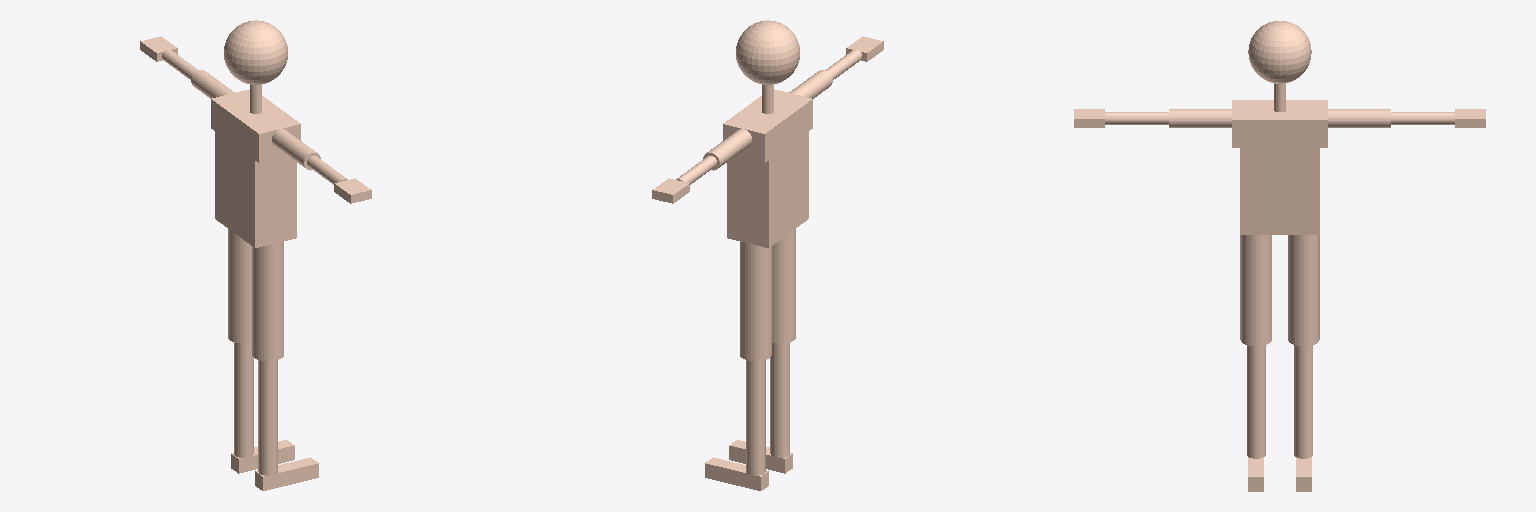
--- Render facts (derived) ---
The picture shows the robot from 3 angles, left to right: view 1: azimuth 30°, elevation 25°; view 2: azimuth 150°, elevation 25°; view 3: azimuth 270°, elevation 25°; orthographic projection.
Robot: HumanModel — 55 links, 54 joints (54 revolute); root link Pelvis; default pose: every joint at zero.
Visible links, largest first — view 1: MiddleTrunk, RightUpperLeg, Head, LeftUpperLeg, Pelvis, RightLowerLeg, LeftLowerLeg, UpperTrunk_Right, RightFoot, UpperTrunk_Middle, UpperTrunk_Left, RightUpperArm (+4 smaller); view 2: MiddleTrunk, LeftUpperLeg, Head, RightUpperLeg, Pelvis, LeftLowerLeg, RightLowerLeg, UpperTrunk_Left, LeftFoot, UpperTrunk_Middle, UpperTrunk_Right, LeftUpperArm (+4 smaller); view 3: MiddleTrunk, RightUpperLeg, LeftUpperLeg, Head, Pelvis, RightLowerLeg, LeftLowerLeg, UpperTrunk_Right, UpperTrunk_Left, UpperTrunk_Middle, RightUpperArm, LeftUpperArm (+6 smaller).
Link boxes in pixels (box(x1,y1,x2,y2)): MiddleTrunk: box(215, 131, 296, 218); RightUpperLeg: box(252, 241, 283, 360); Head: box(224, 20, 287, 84); LeftUpperLeg: box(228, 229, 251, 343); Pelvis: box(215, 190, 296, 247); RightLowerLeg: box(258, 360, 277, 475); LeftLowerLeg: box(234, 342, 253, 457); UpperTrunk_Right: box(243, 112, 300, 162); RightFoot: box(255, 457, 318, 490); UpperTrunk_Middle: box(227, 100, 283, 150); UpperTrunk_Left: box(211, 89, 267, 139); RightUpperArm: box(272, 129, 320, 170); MiddleTrunk: box(727, 131, 808, 218); LeftUpperLeg: box(740, 241, 771, 360); Head: box(736, 20, 799, 84); RightUpperLeg: box(772, 229, 795, 343); Pelvis: box(727, 190, 808, 247); LeftLowerLeg: box(746, 360, 765, 475); RightLowerLeg: box(770, 342, 789, 457); UpperTrunk_Left: box(723, 112, 780, 162); LeftFoot: box(705, 457, 768, 490); UpperTrunk_Middle: box(740, 100, 796, 150); UpperTrunk_Right: box(756, 89, 812, 139); LeftUpperArm: box(703, 129, 751, 170); MiddleTrunk: box(1240, 148, 1319, 205); RightUpperLeg: box(1240, 235, 1271, 345); LeftUpperLeg: box(1288, 235, 1319, 345); Head: box(1248, 21, 1311, 83); Pelvis: box(1240, 206, 1319, 234); RightLowerLeg: box(1247, 345, 1265, 458); LeftLowerLeg: box(1294, 345, 1312, 458); UpperTrunk_Right: box(1232, 100, 1263, 147); UpperTrunk_Left: box(1296, 100, 1327, 147); UpperTrunk_Middle: box(1264, 100, 1295, 147); RightUpperArm: box(1169, 109, 1231, 127); LeftUpperArm: box(1328, 109, 1390, 127).
Size in the robot's own frame: 0.267 by 1.3 by 1.55 metres.
Geometry: primitives only (box / cylinder / sphere), no mesh files.

URDF robot description (HumanModel):
<robot name="HumanModel">

    <material name="color">
        <color rgba="0.9922 00.8667 0.7922 1"/>
    </material>

    <!--LINKS-->

##############################################################################
# PELVI  ORIGIN
##############################################################################
	<!--Link base (1)-->
	<link name="Pelvis">
        <inertial>
            <mass value="4.976"/>
			<!--COM origin wrt pHipOrigin-->
            <origin xyz="0           0    0.05" rpy="0 0 0" />
            <inertia ixx="0.029678" iyy="0.011854" izz="0.033653" ixy="0" ixz="0" iyz="0"/>
        </inertial>

        <visual>
			<!--box origin wrt pHipOrigin-->
            <origin xyz="0           0    0.05" rpy="0 0 0" />
            <geometry>
                <box size="0.15     0.25    0.1"/>
            </geometry>
            <material name="color"/>
        </visual>

        <collision>
			<!--box origin wrt pHipOrigin-->
            <origin xyz="0           0    0.05" rpy="0 0 0" />
            <geometry>
                <box size="0.15     0.25    0.1"/>
            </geometry>
        </collision>
    </link>
##############################################################################
# PELVI - MIDDLETRUNK
##############################################################################
    <!--Chain from (2) to (7)-->
	<link name="MiddleTrunk_f1">
        <inertial>
            <mass value="0"/>
            <origin xyz="0 0 0" rpy="0 0 0" />
            <inertia ixx="0" iyy="0" izz="0" ixy="0" ixz="0" iyz="0"/>
        </inertial>
    </link>
	<link name="MiddleTrunk_f2">
        <inertial>
            <mass value="0"/>
            <origin xyz="0 0 0" rpy="0 0 0" />
            <inertia ixx="0" iyy="0" izz="0" ixy="0" ixz="0" iyz="0"/>
        </inertial>
    </link>
##############################################################################
# MIDDLETRUNK
##############################################################################
	<link name="MiddleTrunk">
        <inertial>
            <mass value="6.3444"/>
			<!--COM origin wrt jL5S1-->
            <origin xyz="0      0    0.1" rpy="0 0 0" />
            <inertia ixx="0.018868" iyy="0.014872" izz="0.024177" ixy="0" ixz="0" iyz="0"/>
        </inertial>

        <visual>
			<!--box origin origin wrt jL5S1-->
            <origin xyz="0           0    0.1" rpy="0 0 0" />
            <geometry>
                <box size="0.15    0.25    0.2"/>
            </geometry>
            <material name="color"/>
        </visual>

        <collision>
			<!--box origin origin wrt jL5S1-->
            <origin xyz="0           0    0.1" rpy="0 0 0" />
            <geometry>
                <box size="0.15    0.25    0.2"/>
            </geometry>
        </collision>
    </link>
##############################################################################
# MIDDLETRUNK - UPPERTRUNK_MIDDLE
##############################################################################
	<link name="UpperTrunk_Middle_f1">
        <inertial>
            <mass value="0"/>
            <origin xyz="0 0 0" rpy="0 0 0" />
            <inertia ixx="0" iyy="0" izz="0" ixy="0" ixz="0" iyz="0"/>
        </inertial>
    </link>
	<link name="UpperTrunk_Middle_f2">
        <inertial>
            <mass value="0"/>
            <origin xyz="0 0 0" rpy="0 0 0" />
            <inertia ixx="0" iyy="0" izz="0" ixy="0" ixz="0" iyz="0"/>
        </inertial>
    </link>
##############################################################################
# UPPERTRUNK_MIDDLE
##############################################################################
	<link name="UpperTrunk_Middle">
        <inertial>
            <mass value="6.3444"/>
			<!--COM origin wrt jL4L3-->
            <origin xyz="0       0    0.05" rpy="0 0 0" />
            <inertia ixx="0.017989" iyy="0.013993" izz="0.024177" ixy="0" ixz="0" iyz="0"/>
        </inertial>

        <visual>
			<!--box origin origin wrt jL4L3-->
            <origin xyz="0       0    0.05" rpy="0 0 0" />
            <geometry>
                <box size="0.15   0.1  0.1"/>
            </geometry>
            <material name="color"/>
        </visual>

        <collision>
			<!--box origin origin wrt jL4L3-->
            <origin xyz="0       0    0.05" rpy="0 0 0" />
            <geometry>
                <box size="0.15  0.1  0.1"/>
            </geometry>
        </collision>
    </link>
##############################################################################
# UPPERTRUNK_MIDDLE - UPPERTRUNK_RIGHT
##############################################################################
	<link name="UpperTrunk_Right_f1">
        <inertial>
            <mass value="0"/>
            <origin xyz="0 0 0" rpy="0 0 0" />
            <inertia ixx="0" iyy="0" izz="0" ixy="0" ixz="0" iyz="0"/>
        </inertial>
    </link>
	<link name="UpperTrunk_Right_f2">
        <inertial>
            <mass value="0"/>
            <origin xyz="0 0 0" rpy="0 0 0" />
            <inertia ixx="0" iyy="0" izz="0" ixy="0" ixz="0" iyz="0"/>
        </inertial>
    </link>
##############################################################################
# UPPERTRUNK_RIGHT
##############################################################################
	<link name="UpperTrunk_Right">
        <inertial>
            <mass value="6.3444"/>
			<!--COM origin wrt jL4L3-->
            <origin xyz="0       -0.05  0 " rpy="0 0 0" />
            <inertia ixx="0.017989" iyy="0.013993" izz="0.024177" ixy="0" ixz="0" iyz="0"/>
        </inertial>

        <visual>
			<!--box origin origin wrt jL4L3-->
            <origin xyz="0    -0.05    0" rpy="0 0 0" />
            <geometry>
                <box size="0.15   0.1  0.1"/>
            </geometry>
            <material name="color"/>
        </visual>

        <collision>
			<!--box origin origin wrt jL4L3-->
            <origin xyz="0    -0.05    0" rpy="0 0 0" />
            <geometry>
                <box size="0.15   0.1  0.1"/>
            </geometry>
        </collision>
    </link>
##############################################################################
# UPPERTRUNK_MIDDLE - UPPERTRUNK_LEFT
##############################################################################
	<link name="UpperTrunk_Left_f1">
        <inertial>
            <mass value="0"/>
            <origin xyz="0 0 0" rpy="0 0 0" />
            <inertia ixx="0" iyy="0" izz="0" ixy="0" ixz="0" iyz="0"/>
        </inertial>
    </link>
	<link name="UpperTrunk_Left_f2">
        <inertial>
            <mass value="0"/>
            <origin xyz="0 0 0" rpy="0 0 0" />
            <inertia ixx="0" iyy="0" izz="0" ixy="0" ixz="0" iyz="0"/>
        </inertial>
    </link>    
##############################################################################
# UPPERTRUNK_LEFT
##############################################################################
	<link name="UpperTrunk_Left">
        <inertial>
            <mass value="6.3444"/>
			<!--COM origin wrt jL4L3-->
            <origin xyz="0    0.05  0" rpy="0 0 0" />
            <inertia ixx="0.017989" iyy="0.013993" izz="0.024177" ixy="0" ixz="0" iyz="0"/>
        </inertial>

        <visual>
			<!--box origin origin wrt jL4L3-->
            <origin xyz="0    0.05    0" rpy="0 0 0" />
            <geometry>
                <box size="0.15   0.1  0.1"/>
            </geometry>
            <material name="color"/>
        </visual>

        <collision>
			<!--box origin origin wrt jL4L3-->
            <origin xyz="0    0.05    0" rpy="0 0 0" />
            <geometry>
                <box size="0.15   0.1  0.1"/>
            </geometry>
        </collision>
    </link>
##############################################################################
# UPPERTRUNK - NECK
##############################################################################	
	<link name="Neck_f1">
        <inertial>
            <mass value="0"/>
            <origin xyz="0 0 0" rpy="0 0 0" />
            <inertia ixx="0" iyy="0" izz="0" ixy="0" ixz="0" iyz="0"/>
        </inertial>
    </link>
	<link name="Neck_f2">
        <inertial>
            <mass value="0"/>
            <origin xyz="0 0 0" rpy="0 0 0" />
            <inertia ixx="0" iyy="0" izz="0" ixy="0" ixz="0" iyz="0"/>
        </inertial>
    </link>
##############################################################################
# NECK
##############################################################################	
	<link name="Neck">
        <inertial>
            <mass value="0.7464"/>
			<!--COM origin wrt jT1C7-->
            <origin xyz="0           0    0.05" rpy="0 0 0" />
            <inertia ixx="0.0006461" iyy="0.0006461" izz="0.00030124" ixy="0" ixz="0" iyz="0"/>
        </inertial>

        <visual>
			<!--box origin wrt jT1C7-->
            <origin xyz="0           0    0.05" rpy="0 0 0" />
            <geometry>
		<cylinder length="0.1" radius="0.02"/>
            </geometry>
            <material name="color"/>
        </visual>

        <collision>
			<!--box origin wrt jT1C7-->
            <origin xyz="0           0    0.05" rpy="0 0 0" />
            <geometry>
                <cylinder length="0.1" radius="0.02"/>
            </geometry>
        </collision>
    </link>
##############################################################################
# NECK - HEAD
##############################################################################	
	<link name="Head_f1">
        <inertial>
            <mass value="0"/>
            <origin xyz="0 0 0" rpy="0 0 0" />
            <inertia ixx="0" iyy="0" izz="0" ixy="0" ixz="0" iyz="0"/>
        </inertial>
    </link>
	<link name="Head_f2">
        <inertial>
            <mass value="0"/>
            <origin xyz="0 0 0" rpy="0 0 0" />
            <inertia ixx="0" iyy="0" izz="0" ixy="0" ixz="0" iyz="0"/>
        </inertial>
    </link>
##############################################################################
# HEAD
##############################################################################	
	<link name="Head">
        <inertial>
            <mass value="2.2392"/>
			<!--COM origin wrt jC1Head-->
            <origin xyz="0           0    0.1" rpy="0 0 0" />
            <inertia ixx="0.0070955" iyy="0.0070955" izz="0.0070955" ixy="0" ixz="0" iyz="0"/>
        </inertial>

        <visual>
			<!--boc origin wrt jC1Head-->
            <origin xyz="0           0    0.1" rpy="0 0 0" />
            <geometry>
                <sphere radius="0.1"/>
            </geometry>
            <material name="color"/>
        </visual>

        <collision>
			<!--box origin wrt jC1Head-->
            <origin xyz="0           0    0.1" rpy="0 0 0" />
            <geometry>
                <sphere radius="0.1"/>
            </geometry>
        </collision>
    </link>
##############################################################################
# RIGHT SHOULDER
##############################################################################

	<!--Chain from (8) to (11)-->
	<link name="RightShoulder_f1">
        <inertial>
            <mass value="0"/>
            <origin xyz="0 0 0" rpy="0 0 0" />
            <inertia ixx="0" iyy="0" izz="0" ixy="0" ixz="0" iyz="0"/>
        </inertial>
    </link>
	<link name="RightShoulder_f2">
        <inertial>
            <mass value="0"/>
            <origin xyz="0 0 0" rpy="0 0 0" />
            <inertia ixx="0" iyy="0" izz="0" ixy="0" ixz="0" iyz="0"/>
        </inertial>
    </link>
##############################################################################
# RIGHT UPPERARM
##############################################################################
    <link name="RightUpperArm">
        <inertial>
            <mass value="1.866"/>
			<!--COM origin wrt jRightShoulder-->
            <origin xyz="0    -0.1           0" rpy="0 0 0" />
            <inertia ixx="0.011736" iyy="0.00080917" izz="0.011736" ixy="0" ixz="0" iyz="0"/>
        </inertial>

        <visual>
			<!--box origin wrt jRightShoulder. RPY rotated of pi/2.-->
            <origin xyz="0    -0.1           0" rpy="1.5708 0 0" />
            <geometry>
                <cylinder length="0.2" radius="0.03"/>
            </geometry>
            <material name="color"/>
        </visual>

        <collision>
			<!--box origin wrt jRightShoulder. RPY rotated of pi/2.-->
            <origin xyz="0    -0.1           0" rpy="1.5708 0 0" />
            <geometry>
                <cylinder length="0.2" radius="0.03"/>
            </geometry>
        </collision>
    </link>
##############################################################################
# RIGHT ELBOW
##############################################################################
	<link name="RightForeArm_f1">
        <inertial>
            <mass value="0"/>
            <origin xyz="0 0 0" rpy="0 0 0" />
            <inertia ixx="0" iyy="0" izz="0" ixy="0" ixz="0" iyz="0"/>
        </inertial>
    </link>
	<link name="RightForeArm_f2">
        <inertial>
            <mass value="0"/>
            <origin xyz="0 0 0" rpy="0 0 0" />
            <inertia ixx="0" iyy="0" izz="0" ixy="0" ixz="0" iyz="0"/>
        </inertial>
    </link>
##############################################################################
# RIGHT FOREARM
##############################################################################
	<link name="RightForeArm">
        <inertial>
            <mass value="1.244"/>
			<!--COM origin wrt jRightElbow-->
            <origin xyz="0    -0.1           0" rpy="0 0 0" />
            <inertia ixx="0.0052508" iyy="0.00023975" izz="0.0052508" ixy="0" ixz="0" iyz="0"/>
        </inertial>

        <visual>
			<!--box origin wrt jRightElbow. RPY rotated of pi/2.-->
            <origin xyz="0    -0.1           0" rpy="1.5708 0 0" />
            <geometry>
                <cylinder length="0.2" radius="0.02"/>
            </geometry>
            <material name="color"/>
        </visual>

        <collision>
			<!--box origin wrt jRightElbow. RPY rotated of pi/2.-->
            <origin xyz="0    -0.1           0" rpy="1.5708 0 0" />
            <geometry>
                <cylinder length="0.2" radius="0.02"/>
            </geometry>
        </collision>
    </link>
##############################################################################
# RIGHT WRIST
##############################################################################
	<link name="RightHand_f1">
        <inertial>
            <mass value="0"/>
            <origin xyz="0 0 0" rpy="0 0 0" />
            <inertia ixx="0" iyy="0" izz="0" ixy="0" ixz="0" iyz="0"/>
        </inertial>
    </link>
	<link name="RightHand_f2">
        <inertial>
            <mass value="0"/>
            <origin xyz="0 0 0" rpy="0 0 0" />
            <inertia ixx="0" iyy="0" izz="0" ixy="0" ixz="0" iyz="0"/>
        </inertial>
    </link>
##############################################################################
# RIGHT HAND
##############################################################################
	<link name="RightHand">
        <inertial>
            <mass value="0.3732"/>
			<!--COM origin wrt jRightWrist-->
            <origin xyz="0   -0.05           0" rpy="0 0 0" />
            <inertia ixx="0.00091713" iyy="0.00043425" izz="0.0012555" ixy="0" ixz="0" iyz="0"/>
        </inertial>

        <visual>
			<!--box origin wrt jRightWrist-->
            <origin xyz="0   -0.05           0" rpy="0 0 0" />
            <geometry>
                <box size="0.075     0.1    0.03"/>
            </geometry>
            <material name="color"/>
        </visual>

        <collision>
			<!--box origin wrt jRightWrist-->
            <origin xyz="0   -0.05           0" rpy="0 0 0" />
            <geometry>
                <box size="0.075     0.1   0.03"/>
            </geometry>
        </collision>
    </link>
##############################################################################
# LEFT SHOULDER
##############################################################################
	<!--Chain from (12) to (15)-->
	<link name="LeftShoulder_f1">
        <inertial>
            <mass value="0"/>
            <origin xyz="0 0 0" rpy="0 0 0" />
            <inertia ixx="0" iyy="0" izz="0" ixy="0" ixz="0" iyz="0"/>
        </inertial>
    </link>
	<link name="LeftShoulder_f2">
        <inertial>
            <mass value="0"/>
            <origin xyz="0 0 0" rpy="0 0 0" />
            <inertia ixx="0" iyy="0" izz="0" ixy="0" ixz="0" iyz="0"/>
        </inertial>
    </link>
##############################################################################
# LEFT UPPERARM
##############################################################################

	<link name="LeftUpperArm">
        <inertial>
            <mass value="1.866"/>
			<!--COM origin wrt jLeftShoulder-->
            <origin xyz="0     0.1          0" rpy="0 0 0" />
            <inertia ixx="0.011736" iyy="0.00080917" izz="0.011736" ixy="0" ixz="0" iyz="0"/>
        </inertial>

        <visual>
			<!--box origin wrt jLeftShoulder. RPY rotated of pi/2.-->
            <origin xyz="0     0.1           0" rpy="1.5708 0 0" />
            <geometry>
                <cylinder length="0.2" radius="0.03"/>
            </geometry>
            <material name="color"/>
        </visual>

        <collision>
			<!--box origin wrt jLeftShoulder. RPY rotated of pi/2.-->
            <origin xyz="0     0.1           0" rpy="1.5708 0 0" />
            <geometry>
                <cylinder length="0.2" radius="0.03"/>
            </geometry>
        </collision>
    </link>
##############################################################################
# LEFT ELBOW
##############################################################################
	<link name="LeftForeArm_f1">
        <inertial>
            <mass value="0"/>
            <origin xyz="0 0 0" rpy="0 0 0" />
            <inertia ixx="0" iyy="0" izz="0" ixy="0" ixz="0" iyz="0"/>
        </inertial>
    </link>
	<link name="LeftForeArm_f2">
        <inertial>
            <mass value="0"/>
            <origin xyz="0 0 0" rpy="0 0 0" />
            <inertia ixx="0" iyy="0" izz="0" ixy="0" ixz="0" iyz="0"/>
        </inertial>
    </link>
##############################################################################
# LEFT FOREARM
##############################################################################
	<link name="LeftForeArm">
        <inertial>
            <mass value="1.244"/>
			<!--COM origin wrt jLeftElbow-->
            <origin xyz="0     0.1           0" rpy="0 0 0" />
            <inertia ixx="0.0052508" iyy="0.00023975" izz="0.0052508" ixy="0" ixz="0" iyz="0"/>
        </inertial>

        <visual>
			<!--box origin wrt jLeftElbow. RPY rotated of pi/2.-->
            <origin xyz="0     0.1           0" rpy="1.5708 0 0" />
            <geometry>
                <cylinder length="0.2" radius="0.02"/>
            </geometry>
            <material name="color"/>
        </visual>

        <collision>
			<!--box origin wrt jLeftElbow. RPY rotated of pi/2.-->
            <origin xyz="0     0.1           0" rpy="1.5708 0 0" />
            <geometry>
                <cylinder length="0.2" radius="0.02"/>
            </geometry>
        </collision>
    </link>
##############################################################################
# LEFT WRIST
##############################################################################
	<link name="LeftHand_f1">
        <inertial>
            <mass value="0"/>
            <origin xyz="0 0 0" rpy="0 0 0" />
            <inertia ixx="0" iyy="0" izz="0" ixy="0" ixz="0" iyz="0"/>
        </inertial>
    </link>
	<link name="LeftHand_f2">
        <inertial>
            <mass value="0"/>
            <origin xyz="0 0 0" rpy="0 0 0" />
            <inertia ixx="0" iyy="0" izz="0" ixy="0" ixz="0" iyz="0"/>
        </inertial>
    </link>
##############################################################################
# LEFT HAND
##############################################################################
	<link name="LeftHand">
        <inertial>
            <mass value="0.3732"/>
			<!--COM origin wrt jLeftWrist-->
            <origin xyz="0    0.05           0" rpy="0 0 0" />
            <inertia ixx="0.00091713" iyy="0.00043425" izz="0.0012555" ixy="0" ixz="0" iyz="0"/>
        </inertial>

        <visual>
			<!--COM origin wrt jLeftWrist-->
            <origin xyz="0    0.05           0" rpy="0 0 0" />
            <geometry>
                <box size="0.075     0.1    0.03"/>
            </geometry>
            <material name="color"/>
        </visual>

        <collision>
			<!--COM origin wrt jLeftWrist-->
            <origin xyz="0    0.05           0" rpy="0 0 0" />
            <geometry>
                <box size="0.075     0.1    0.03"/>
            </geometry>
        </collision>

    </link>
##############################################################################
# RIGHT HIP
##############################################################################
	<!--Chain from (16) to (19)-->
	<link name="RightUpperLeg_f1">
        <inertial>
            <mass value="0"/>
            <origin xyz="0 0 0" rpy="0 0 0" />
            <inertia ixx="0" iyy="0" izz="0" ixy="0" ixz="0" iyz="0"/>
        </inertial>
    </link>
	<link name="RightUpperLeg_f2">
        <inertial>
            <mass value="0"/>
            <origin xyz="0 0 0" rpy="0 0 0" />
            <inertia ixx="0" iyy="0" izz="0" ixy="0" ixz="0" iyz="0"/>
        </inertial>
    </link>
##############################################################################
# RIGHT UPPERLEG
##############################################################################
    <link name="RightUpperLeg">
        <inertial>
            <mass value="7.775"/>
			<!--COM origin wrt jRightHip-->
            <origin xyz="0           0    -0.2" rpy="0 0 0" />
            <inertia ixx="0.13681" iyy="0.13681" izz="0.01241" ixy="0" ixz="0" iyz="0"/>
        </inertial>

        <visual>
			<!--box origin wrt jRightHip-->
            <origin xyz="0           0    -0.2" rpy="0 0 0" />
            <geometry>
                <cylinder length="0.4" radius="0.05"/>
            </geometry>
            <material name="color"/>
        </visual>

        <collision>
			<!--box origin wrt jRightHip-->
            <origin xyz="0           0    -0.2" rpy="0 0 0" />
            <geometry>
                <cylinder length="0.4" radius="0.05"/>
            </geometry>
        </collision>
     </link>
##############################################################################
# RIGHT KNEE
##############################################################################

	<link name="RightLowerLeg_f1">
        <inertial>
            <mass value="0"/>
            <origin xyz="0 0 0" rpy="0 0 0" />
            <inertia ixx="0" iyy="0" izz="0" ixy="0" ixz="0" iyz="0"/>
        </inertial>
    </link>
	<link name="RightLowerLeg_f2">
        <inertial>
            <mass value="0"/>
            <origin xyz="0 0 0" rpy="0 0 0" />
            <inertia ixx="0" iyy="0" izz="0" ixy="0" ixz="0" iyz="0"/>
        </inertial>
    </link>
##############################################################################
# RIGHT LOWERLEG
##############################################################################
    <link name="RightLowerLeg">
        <inertial>
            <mass value="2.2703"/>
			<!--COM origin wrt jRightKnee-->
            <origin xyz="0           0    -0.2" rpy="0 0 0" />
            <inertia ixx="0.031992" iyy="0.031992" izz="0.0015867" ixy="0" ixz="0" iyz="0"/>
        </inertial>

        <visual>
			<!--box origin wrt jRightKnee-->
            <origin xyz="0           0    -0.2" rpy="0 0 0" />
            <geometry>
                <cylinder length="0.4" radius="0.03"/>
            </geometry>
            <material name="color"/>
        </visual>

        <collision>
			<!--box origin wrt jRightKnee-->
            <origin xyz="0           0    -0.2" rpy="0 0 0" />
            <geometry>
                <cylinder length="0.4" radius="0.03"/>
            </geometry>
        </collision>
    </link>
##############################################################################
# RIGHT ANKLE
############################################################################## 
	<link name="RightFoot_f1">
        <inertial>
            <mass value="0"/>
            <origin xyz="0 0 0" rpy="0 0 0" />
            <inertia ixx="0" iyy="0" izz="0" ixy="0" ixz="0" iyz="0"/>
        </inertial>
    </link>
	<link name="RightFoot_f2">
        <inertial>
            <mass value="0"/>
            <origin xyz="0 0 0" rpy="0 0 0" />
            <inertia ixx="0" iyy="0" izz="0" ixy="0" ixz="0" iyz="0"/>
        </inertial>
    </link>
##############################################################################
# RIGHT FOOT
##############################################################################
    <link name="RightFoot">
        <inertial>
            <mass value="0.8086"/>
			<!--COM origin wrt jRightAnkle-->
            <origin xyz="0.067         0   -0.025" rpy="0 0 0" />
            <inertia ixx="0.00079209" iyy="0.0025944" izz="0.0025558" ixy="0" ixz="0" iyz="0"/>
        </inertial>

        <visual>
			<!--box origin wrt jRightAnkle-->
	    	<origin xyz="0.067            0   -0.025" rpy="0 0 0" />
            <geometry>
                <box size="0.2    0.05    0.05"/>
            </geometry>
            <material name="color"/>
        </visual>

        <collision>
			<!--box origin wrt jRightAnkle-->
		    <origin xyz="0.067           0   -0.025" rpy="0 0 0" />
	            <geometry>
	                <box size="0.2    0.05    0.05"/>
	            </geometry>
        </collision>

    </link>



##############################################################################
# LEFT HIP
##############################################################################	
	<!--Chain from (20) to (23)-->
	<link name="LeftUpperLeg_f1">
        <inertial>
            <mass value="0"/>
            <origin xyz="0 0 0" rpy="0 0 0" />
            <inertia ixx="0" iyy="0" izz="0" ixy="0" ixz="0" iyz="0"/>
        </inertial>
    </link>
	<link name="LeftUpperLeg_f2">
        <inertial>
            <mass value="0"/>
            <origin xyz="0 0 0" rpy="0 0 0" />
            <inertia ixx="0" iyy="0" izz="0" ixy="0" ixz="0" iyz="0"/>
        </inertial>
    </link>
##############################################################################
# LEFT UPPERLEG
##############################################################################
    <link name="LeftUpperLeg">
        <inertial>
            <mass value="7.775"/>
			<!--COM origin wrt jLeftHip-->
            <origin xyz="0           0    -0.2" rpy="0 0 0" />
            <inertia ixx="0.13681" iyy="0.13681" izz="0.01241" ixy="0" ixz="0" iyz="0"/>
        </inertial>

        <visual>
			<!--box origin wrt jLeftHip-->
            <origin xyz="0           0    -0.2" rpy="0 0 0" />
            <geometry>
                <cylinder length="0.4" radius="0.05"/>
            </geometry>
            <material name="color"/>
        </visual>

        <collision>
			<!--box origin wrt jLeftHip-->
            <origin xyz="0           0    -0.2" rpy="0 0 0" />
            <geometry>
                <cylinder length="0.4" radius="0.05"/>
            </geometry>
        </collision>
##############################################################################
# LEFT KNEE
##############################################################################
    </link>
	<link name="LeftLowerLeg_f1">
        <inertial>
            <mass value="0"/>
            <origin xyz="0 0 0" rpy="0 0 0" />
            <inertia ixx="0" iyy="0" izz="0" ixy="0" ixz="0" iyz="0"/>
        </inertial>
    </link>
	<link name="LeftLowerLeg_f2">
        <inertial>
            <mass value="0"/>
            <origin xyz="0 0 0" rpy="0 0 0" />
            <inertia ixx="0" iyy="0" izz="0" ixy="0" ixz="0" iyz="0"/>
        </inertial>
    </link>
##############################################################################
# LEFT LOWERLEG
##############################################################################
	<link name="LeftLowerLeg">
        <inertial>
            <mass value="2.2703"/>
			<!--COM origin wrt jLeftKnee-->
            <origin xyz="0           0    -0.2" rpy="0 0 0" />
            <inertia ixx="0.031992" iyy="0.031992" izz="0.0015867" ixy="0" ixz="0" iyz="0"/>
        </inertial>

        <visual>
			<!--box origin wrt jLeftKnee-->
            <origin xyz="0           0    -0.2" rpy="0 0 0" />
            <geometry>
		        <cylinder length="0.4" radius="0.03"/>
            </geometry>
            <material name="color"/>
        </visual>

        <collision>
			<!--box origin wrt jLeftKnee-->
            <origin xyz="0           0    -0.2" rpy="0 0 0" />
            <geometry>
		        <cylinder length="0.4" radius="0.03"/>
            </geometry>
        </collision>

    </link>
##############################################################################
# LEFT ANKLE
##############################################################################
	<link name="LeftFoot_f1">
        <inertial>
            <mass value="0"/>
            <origin xyz="0 0 0" rpy="0 0 0" />
            <inertia ixx="0" iyy="0" izz="0" ixy="0" ixz="0" iyz="0"/>
        </inertial>
    </link>
	<link name="LeftFoot_f2">
        <inertial>
            <mass value="0"/>
            <origin xyz="0 0 0" rpy="0 0 0" />
            <inertia ixx="0" iyy="0" izz="0" ixy="0" ixz="0" iyz="0"/>
        </inertial>
    </link>
##############################################################################
# LEFT FOOT
##############################################################################
    <link name="LeftFoot">
        <inertial>
            <mass value="0.8086"/>
			<!--COM origin wrt jLeftAnkle-->
            <origin xyz="0.067         0   -0.025" rpy="0 0 0" />
            <inertia ixx="0.00079209" iyy="0.0025944" izz="0.0025558" ixy="0" ixz="0" iyz="0"/>
        </inertial>

        <visual>
			<!--box origin wrt jLeftAnkle-->
	   	 	<origin xyz="0.067         0   -0.025" rpy="0 0 0" />
            <geometry>
                <box size="0.2    0.05    0.05"/>
            </geometry>
            <material name="color"/>
        </visual>

        <collision>
			<!--box origin wrt jLeftAnkle-->
		    <origin xyz="0.067         0   -0.025" rpy="0 0 0" />
	            <geometry>
	                <box size="0.2    0.05    0.05"/>
	            </geometry>
        </collision>

    </link>



<!--JOINTS-->



##############################################################################
# PELVI - MIDDLETRUNK
##############################################################################
	
	<!--Chain from (2) to (7)-->
	<joint name="jL5S1_rotx" type="revolute">
        <origin xyz="0          0    0.1" rpy="0 0 0"/>
        <parent link="Pelvis"/>
        <child link="MiddleTrunk_f1"/>
        <dynamics damping="0.1" friction="0.0"/>
        <limit effort="30" velocity="1.0" lower="-10.0" upper="10.0" />
        <axis xyz="1 0 0" />
    </joint>
	<joint name="jL5S1_roty" type="revolute">
        <origin xyz="0 0 0" rpy="0 0 0"/>
        <parent link="MiddleTrunk_f1"/>
        <child link="MiddleTrunk_f2"/>
        <dynamics damping="0.1" friction="0.0"/>
        <limit effort="30" velocity="1.0" lower="-10.0" upper="10.0" />
        <axis xyz="0 1 0" />
    </joint>
    <joint name="jL5S1_rotz" type="revolute">
        <origin xyz="0 0 0" rpy="0 0 0"/>
        <parent link="MiddleTrunk_f2"/>
        <child link="MiddleTrunk"/>
        <dynamics damping="0.1" friction="0.0"/>
        <limit effort="30" velocity="1.0" lower="-10.0" upper="10.0" />
        <axis xyz="0 0 1" />
    </joint>
##############################################################################
# MIDDLETRUNK - UPPERTRUNK_MIDDLE
##############################################################################

	<joint name="jL4L3_rotx" type="revolute">
        <origin xyz="0      0    0.2" rpy="0 0 0"/>
        <parent link="MiddleTrunk"/>
        <child link="UpperTrunk_Middle_f1"/>
        <dynamics damping="0.1" friction="0.0"/>
        <limit effort="30" velocity="1.0" lower="-10.0" upper="10.0" />
        <axis xyz="1 0 0" />
    </joint>
	<joint name="jL4L3_roty" type="revolute">
        <origin xyz="0 0 0" rpy="0 0 0"/>
        <parent link="UpperTrunk_Middle_f1"/>
        <child link="UpperTrunk_Middle_f2"/>
        <dynamics damping="0.1" friction="0.0"/>
        <limit effort="30" velocity="1.0" lower="-10.0" upper="10.0" />
        <axis xyz="0 1 0" />
    </joint>
    <joint name="jL4L3_rotz" type="revolute">
        <origin xyz="0 0 0" rpy="0 0 0"/>
        <parent link="UpperTrunk_Middle_f2"/>
        <child link="UpperTrunk_Middle"/>
        <dynamics damping="0.1" friction="0.0"/>
        <limit effort="30" velocity="1.0" lower="-10.0" upper="10.0" />
        <axis xyz="0 0 1" />
    </joint>
##############################################################################
# UPPERTRUNK_MIDDLE - UPPERTRUNK_RIGHT
##############################################################################

	<!--Chain from (8) to (11)-->
	<joint name="jT1C7_Right_rotx" type="revolute">
        <origin xyz="0   -0.05    0.05" rpy="0 0 0"/>
        <parent link="UpperTrunk_Middle"/>
        <child link="UpperTrunk_Right_f1"/>
        <dynamics damping="0.1" friction="0.0"/>
        <limit effort="30" velocity="1.0" lower="-10.0" upper="10.0" />
        <axis xyz="1 0 0" />
    </joint>
	<joint name="jT1C7_Right_roty" type="revolute">
        <origin xyz="0 0 0" rpy="0 0 0"/>
        <parent link="UpperTrunk_Right_f1"/>
        <child link="UpperTrunk_Right_f2"/>
        <dynamics damping="0.1" friction="0.0"/>
        <limit effort="30" velocity="1.0" lower="-10.0" upper="10.0" />
        <axis xyz="0 1 0" />
    </joint>
    <joint name="jT1C7_Right_rotz" type="revolute">
        <origin xyz="0 0 0" rpy="0 0 0"/>
        <parent link="UpperTrunk_Right_f2"/>
        <child link="UpperTrunk_Right"/>
        <dynamics damping="0.1" friction="0.0"/>
        <limit effort="30" velocity="1.0" lower="-10.0" upper="10.0" />
        <axis xyz="0 0 1" />
    </joint>
##############################################################################
# UPPERTRUNK_MIDDLE - UPPERTRUNK_LEFT
##############################################################################

	<!--Chain from (8) to (11)-->
	<joint name="jT1C7_Left_rotx" type="revolute">
        <origin xyz="0   0.05    0.05" rpy="0 0 0"/>
        <parent link="UpperTrunk_Middle"/>
        <child link="UpperTrunk_Left_f1"/>
        <dynamics damping="0.1" friction="0.0"/>
        <limit effort="30" velocity="1.0" lower="-10.0" upper="10.0" />
        <axis xyz="1 0 0" />
    </joint>
	<joint name="jT1C7_Left_roty" type="revolute">
        <origin xyz="0 0 0" rpy="0 0 0"/>
        <parent link="UpperTrunk_Left_f1"/>
        <child link="UpperTrunk_Left_f2"/>
        <dynamics damping="0.1" friction="0.0"/>
        <limit effort="30" velocity="1.0" lower="-10.0" upper="10.0" />
        <axis xyz="0 1 0" />
    </joint>
    <joint name="jT1C7_Left_rotz" type="revolute">
        <origin xyz="0 0 0" rpy="0 0 0"/>
        <parent link="UpperTrunk_Left_f2"/>
        <child link="UpperTrunk_Left"/>
        <dynamics damping="0.1" friction="0.0"/>
        <limit effort="30" velocity="1.0" lower="-10.0" upper="10.0" />
        <axis xyz="0 0 1" />
    </joint>
##############################################################################
# UPPERTRUNK_MIDDLE - NECK
##############################################################################

	<joint name="jT1C7_rotx" type="revolute">
        <origin xyz="0        0     0.1" rpy="0 0 0"/>
        <parent link="UpperTrunk_Middle"/>
        <child link="Neck_f1"/>
        <dynamics damping="0.1" friction="0.0"/>
        <limit effort="30" velocity="1.0" lower="-10.0" upper="10.0" />
        <axis xyz="1 0 0" />
    </joint>
	<joint name="jT1C7_roty" type="revolute">
        <origin xyz="0 0 0" rpy="0 0 0"/>
        <parent link="Neck_f1"/>
        <child link="Neck_f2"/>
        <dynamics damping="0.1" friction="0.0"/>
        <limit effort="30" velocity="1.0" lower="-10.0" upper="10.0" />
        <axis xyz="0 1 0" />
    </joint>
    <joint name="jT1C7_rotz" type="revolute">
        <origin xyz="0 0 0" rpy="0 0 0"/>
        <parent link="Neck_f2"/>
        <child link="Neck"/>
        <dynamics damping="0.1" friction="0.0"/>
        <limit effort="30" velocity="1.0" lower="-10.0" upper="10.0" />
        <axis xyz="0 0 1" />
    </joint>
##############################################################################
# NECK - HEAD
##############################################################################  
	<joint name="jC1Head_rotx" type="revolute">
        <origin xyz="0           0    0.1" rpy="0 0 0"/>
        <parent link="Neck"/>
        <child link="Head_f1"/>
        <dynamics damping="0.1" friction="0.0"/>
        <limit effort="30" velocity="1.0" lower="-10.0" upper="10.0" />
        <axis xyz="1 0 0" />
    </joint>
	<joint name="jC1Head_roty" type="revolute">
        <origin xyz="0 0 0" rpy="0 0 0"/>
        <parent link="Head_f1"/>
        <child link="Head_f2"/>
        <dynamics damping="0.1" friction="0.0"/>
        <limit effort="30" velocity="1.0" lower="-10.0" upper="10.0" />
        <axis xyz="0 1 0" />
    </joint>
    <joint name="jC1Head_rotz" type="revolute">
        <origin xyz="0 0 0" rpy="0 0 0"/>
        <parent link="Head_f2"/>
        <child link="Head"/>
        <dynamics damping="0.1" friction="0.0"/>
        <limit effort="30" velocity="1.0" lower="-10.0" upper="10.0" />
        <axis xyz="0 0 1" />
    </joint>


##############################################################################
# RIGHT SHOULDER
##############################################################################

	<!--Chain from (8) to (11)-->
	<joint name="jRightC7Shoulder_rotx" type="revolute">
        <origin xyz="0   -0.1    0.02" rpy="0 0 0"/>
        <parent link="UpperTrunk_Right"/>
        <child link="RightShoulder_f1"/>
        <dynamics damping="0.1" friction="0.0"/>
        <limit effort="30" velocity="1.0" lower="-10.0" upper="10.0" />
        <axis xyz="1 0 0" />
    </joint>
	<joint name="jRightC7Shoulder_roty" type="revolute">
        <origin xyz="0 0 0" rpy="0 0 0"/>
        <parent link="RightShoulder_f1"/>
        <child link="RightShoulder_f2"/>
        <dynamics damping="0.1" friction="0.0"/>
        <limit effort="30" velocity="1.0" lower="-10.0" upper="10.0" />
        <axis xyz="0 1 0" />
    </joint>
    <joint name="jRightC7Shoulder_rotz" type="revolute">
        <origin xyz="0 0 0" rpy="0 0 0"/>
        <parent link="RightShoulder_f2"/>
        <child link="RightUpperArm"/>
        <dynamics damping="0.1" friction="0.0"/>
        <limit effort="30" velocity="1.0" lower="-10.0" upper="10.0" />
        <axis xyz="0 0 1" />
    </joint>
##############################################################################
# RIGHT ELBOW
##############################################################################
	<joint name="jRightElbow_rotx" type="revolute">
        <origin xyz="0    -0.2   0" rpy="0 0 0"/>
        <parent link="RightUpperArm"/>
        <child link="RightForeArm_f1"/>
        <dynamics damping="0.1" friction="0.0"/>
        <limit effort="30" velocity="1.0" lower="-10.0" upper="10.0" />
        <axis xyz="1 0 0" />
    </joint>
	<joint name="jRightElbow_roty" type="revolute">
        <origin xyz="0 0 0" rpy="0 0 0"/>
        <parent link="RightForeArm_f1"/>
        <child link="RightForeArm_f2"/>
        <dynamics damping="0.1" friction="0.0"/>
        <limit effort="30" velocity="1.0" lower="-10.0" upper="10.0" />
        <axis xyz="0 1 0" />
    </joint>
    <joint name="jRightElbow_rotz" type="revolute">
        <origin xyz="0 0 0" rpy="0 0 0"/>
        <parent link="RightForeArm_f2"/>
        <child link="RightForeArm"/>
        <dynamics damping="0.1" friction="0.0"/>
        <limit effort="30" velocity="1.0" lower="-10.0" upper="10.0" />
        <axis xyz="0 0 1" />
    </joint>
##############################################################################
# RIGHT WRIST
##############################################################################
	<joint name="jRightWrist_rotx" type="revolute">
        <origin xyz="0    -0.2           0" rpy="0 0 0"/>
        <parent link="RightForeArm"/>
        <child link="RightHand_f1"/>
        <dynamics damping="0.1" friction="0.0"/>
        <limit effort="30" velocity="1.0" lower="-10.0" upper="10.0" />
        <axis xyz="1 0 0" />
    </joint>
	<joint name="jRightWrist_roty" type="revolute">
        <origin xyz="0 0 0" rpy="0 0 0"/>
        <parent link="RightHand_f1"/>
        <child link="RightHand_f2"/>
        <dynamics damping="0.1" friction="0.0"/>
        <limit effort="30" velocity="1.0" lower="-10.0" upper="10.0" />
        <axis xyz="0 1 0" />
    </joint>
    <joint name="jRightWrist_rotz" type="revolute">
        <origin xyz="0 0 0" rpy="0 0 0"/>
        <parent link="RightHand_f2"/>
        <child link="RightHand"/>
        <dynamics damping="0.1" friction="0.0"/>
        <limit effort="30" velocity="1.0" lower="-10.0" upper="10.0" />
        <axis xyz="0 0 1" />
    </joint>


##############################################################################
# LEFT SHOULDER
##############################################################################
	<!--Chain from (12) to (15)-->
	<joint name="jLeftC7Shoulder_rotx" type="revolute">
        <origin xyz="0    0.1    0.02" rpy="0 0 0"/>
        <parent link="UpperTrunk_Left"/>
        <child link="LeftShoulder_f1"/>
        <dynamics damping="0.1" friction="0.0"/>
        <limit effort="30" velocity="1.0" lower="-10.0" upper="10.0" />
        <axis xyz="1 0 0" />
    </joint>
	<joint name="jLeftC7Shoulder_roty" type="revolute">
        <origin xyz="0 0 0" rpy="0 0 0"/>
        <parent link="LeftShoulder_f1"/>
        <child link="LeftShoulder_f2"/>
        <dynamics damping="0.1" friction="0.0"/>
        <limit effort="30" velocity="1.0" lower="-10.0" upper="10.0" />
        <axis xyz="0 1 0" />
    </joint>
    <joint name="jLeftC7Shoulder_rotz" type="revolute">
        <origin xyz="0 0 0" rpy="0 0 0"/>
        <parent link="LeftShoulder_f2"/>
        <child link="LeftUpperArm"/>
        <dynamics damping="0.1" friction="0.0"/>
        <limit effort="30" velocity="1.0" lower="-10.0" upper="10.0" />
        <axis xyz="0 0 1" />
    </joint>
##############################################################################
# LEFT ELBOW
##############################################################################
    <joint name="jLeftElbow_rotx" type="revolute">
        <origin xyz="0     0.2           0" rpy="0 0 0"/>
        <parent link="LeftUpperArm"/>
        <child link="LeftForeArm_f1"/>
        <dynamics damping="0.1" friction="0.0"/>
        <limit effort="30" velocity="1.0" lower="-10.0" upper="10.0" />
        <axis xyz="1 0 0" />
    </joint>
	<joint name="jLeftElbow_roty" type="revolute">
        <origin xyz="0 0 0" rpy="0 0 0"/>
        <parent link="LeftForeArm_f1"/>
        <child link="LeftForeArm_f2"/>
        <dynamics damping="0.1" friction="0.0"/>
        <limit effort="30" velocity="1.0" lower="-10.0" upper="10.0" />
        <axis xyz="0 1 0" />
    </joint>
    <joint name="jLeftElbow_rotz" type="revolute">
        <origin xyz="0 0 0" rpy="0 0 0"/>
        <parent link="LeftForeArm_f2"/>
        <child link="LeftForeArm"/>
        <dynamics damping="0.1" friction="0.0"/>
        <limit effort="30" velocity="1.0" lower="-10.0" upper="10.0" />
        <axis xyz="0 0 1" />
    </joint>
##############################################################################
# LEFT WRIST
##############################################################################
	<joint name="jLeftWrist_rotx" type="revolute">
        <origin xyz="0     0.2         0" rpy="0 0 0"/>
        <parent link="LeftForeArm"/>
        <child link="LeftHand_f1"/>
        <dynamics damping="0.1" friction="0.0"/>
        <limit effort="30" velocity="1.0" lower="-10.0" upper="10.0" />
        <axis xyz="1 0 0" />
    </joint>
	<joint name="jLeftWrist_roty" type="revolute">
        <origin xyz="0 0 0" rpy="0 0 0"/>
        <parent link="LeftHand_f1"/>
        <child link="LeftHand_f2"/>
        <dynamics damping="0.1" friction="0.0"/>
        <limit effort="30" velocity="1.0" lower="-10.0" upper="10.0" />
        <axis xyz="0 1 0" />
    </joint>
    <joint name="jLeftWrist_rotz" type="revolute">
        <origin xyz="0 0 0" rpy="0 0 0"/>
        <parent link="LeftHand_f2"/>
        <child link="LeftHand"/>
        <dynamics damping="0.1" friction="0.0"/>
        <limit effort="30" velocity="1.0" lower="-10.0" upper="10.0" />
        <axis xyz="0 0 1" />
    </joint>


##############################################################################
# RIGHT HIP
##############################################################################
	<!--Chain from (16) to (19)-->
	<joint name="jRightHip_rotx" type="revolute">
        <origin xyz="0   -0.075    0" rpy="0 0 0"/>
        <parent link="Pelvis"/>
        <child link="RightUpperLeg_f1"/>
        <dynamics damping="0.1" friction="0.0"/>
        <limit effort="30" velocity="1.0" lower="-10.0" upper="10.0" />
        <axis xyz="1 0 0" />
    </joint>
	<joint name="jRightHip_roty" type="revolute">
        <origin xyz="0 0 0" rpy="0 0 0"/>
        <parent link="RightUpperLeg_f1"/>
        <child link="RightUpperLeg_f2"/>
        <dynamics damping="0.1" friction="0.0"/>
        <limit effort="30" velocity="1.0" lower="-10.0" upper="10.0" />
        <axis xyz="0 1 0" />
    </joint>
    <joint name="jRightHip_rotz" type="revolute">
        <origin xyz="0 0 0" rpy="0 0 0"/>
        <parent link="RightUpperLeg_f2"/>
        <child link="RightUpperLeg"/>
        <dynamics damping="0.1" friction="0.0"/>
        <limit effort="30" velocity="1.0" lower="-10.0" upper="10.0" />
        <axis xyz="0 0 1" />
    </joint>
##############################################################################
# RIGHT KNEE
##############################################################################
	<joint name="jRightKnee_rotx" type="revolute">
        <origin xyz="0    0    -0.4" rpy="0 0 0"/>
        <parent link="RightUpperLeg"/>
        <child link="RightLowerLeg_f1"/>
        <dynamics damping="0.1" friction="0.0"/>
        <limit effort="30" velocity="1.0" lower="-10.0" upper="10.0" />
        <axis xyz="1 0 0" />
    </joint>
	<joint name="jRightKnee_roty" type="revolute">
        <origin xyz="0 0 0" rpy="0 0 0"/>
        <parent link="RightLowerLeg_f1"/>
        <child link="RightLowerLeg_f2"/>
        <dynamics damping="0.1" friction="0.0"/>
        <limit effort="30" velocity="1.0" lower="-10.0" upper="10.0" />
        <axis xyz="0 1 0" />
    </joint>
    <joint name="jRightKnee_rotz" type="revolute">
        <origin xyz="0 0 0" rpy="0 0 0"/>
        <parent link="RightLowerLeg_f2"/>
        <child link="RightLowerLeg"/>
        <dynamics damping="0.1" friction="0.0"/>
        <limit effort="30" velocity="1.0" lower="-10.0" upper="10.0" />
        <axis xyz="0 0 1" />
    </joint>
##############################################################################
# RIGHT ANKLE
##############################################################################
	<joint name="jRightAnkle_rotx" type="revolute">
        <origin xyz="0      0    -0.4" rpy="0 0 0"/>
        <parent link="RightLowerLeg"/>
        <child link="RightFoot_f1"/>
        <dynamics damping="0.1" friction="0.0"/>
        <limit effort="30" velocity="1.0" lower="-10.0" upper="10.0" />
        <axis xyz="1 0 0" />
    </joint>
	<joint name="jRightAnkle_roty" type="revolute">
        <origin xyz="0 0 0" rpy="0 0 0"/>
        <parent link="RightFoot_f1"/>
        <child link="RightFoot_f2"/>
        <dynamics damping="0.1" friction="0.0"/>
        <limit effort="30" velocity="1.0" lower="-10.0" upper="10.0" />
        <axis xyz="0 1 0" />
    </joint>
    <joint name="jRightAnkle_rotz" type="revolute">
        <origin xyz="0 0 0" rpy="0 0 0"/>
        <parent link="RightFoot_f2"/>
        <child link="RightFoot"/>
        <dynamics damping="0.1" friction="0.0"/>
        <limit effort="30" velocity="1.0" lower="-10.0" upper="10.0" />
        <axis xyz="0 0 1" />
    </joint>


##############################################################################
# LEFT HIP
##############################################################################
	<!--Chain from (20) to (23)-->
	<joint name="jLeftHip_rotx" type="revolute">
        <origin xyz="0   0.075    0" rpy="0 0 0"/>
        <parent link="Pelvis"/>
        <child link="LeftUpperLeg_f1"/>
        <dynamics damping="0.1" friction="0.0"/>
        <limit effort="30" velocity="1.0" lower="-10.0" upper="10.0" />
        <axis xyz="1 0 0" />
    </joint>
	<joint name="jLeftHip_roty" type="revolute">
        <origin xyz="0 0 0" rpy="0 0 0"/>
        <parent link="LeftUpperLeg_f1"/>
        <child link="LeftUpperLeg_f2"/>
        <dynamics damping="0.1" friction="0.0"/>
        <limit effort="30" velocity="1.0" lower="-10.0" upper="10.0" />
        <axis xyz="0 1 0" />
    </joint>
    <joint name="jLeftHip_rotz" type="revolute">
        <origin xyz="0 0 0" rpy="0 0 0"/>
        <parent link="LeftUpperLeg_f2"/>
        <child link="LeftUpperLeg"/>
        <dynamics damping="0.1" friction="0.0"/>
        <limit effort="30" velocity="1.0" lower="-10.0" upper="10.0" />
        <axis xyz="0 0 1" />
    </joint>
##############################################################################
# LEFT KNEE
##############################################################################
	<joint name="jLeftKnee_rotx" type="revolute">
        <origin xyz=" 0      0    -0.4" rpy="0 0 0"/>
        <parent link="LeftUpperLeg"/>
        <child link="LeftLowerLeg_f1"/>
        <dynamics damping="0.1" friction="0.0"/>
        <limit effort="30" velocity="1.0" lower="-10.0" upper="10.0" />
        <axis xyz="1 0 0" />
    </joint>
	<joint name="jLeftKnee_roty" type="revolute">
        <origin xyz="0 0 0" rpy="0 0 0"/>
        <parent link="LeftLowerLeg_f1"/>
        <child link="LeftLowerLeg_f2"/>
        <dynamics damping="0.1" friction="0.0"/>
        <limit effort="30" velocity="1.0" lower="-10.0" upper="10.0" />
        <axis xyz="0 1 0" />
    </joint>
    <joint name="jLeftKnee_rotz" type="revolute">
        <origin xyz="0 0 0" rpy="0 0 0"/>
        <parent link="LeftLowerLeg_f2"/>
        <child link="LeftLowerLeg"/>
        <dynamics damping="0.1" friction="0.0"/>
        <limit effort="30" velocity="1.0" lower="-10.0" upper="10.0" />
        <axis xyz="0 0 1" />
    </joint>
##############################################################################
# LEFT ANKLE
##############################################################################
	<joint name="jLeftAnkle_rotx" type="revolute">
        <origin xyz="0          0    -0.4" rpy="0 0 0"/>
        <parent link="LeftLowerLeg"/>
        <child link="LeftFoot_f1"/>
        <dynamics damping="0.1" friction="0.0"/>
        <limit effort="30" velocity="1.0" lower="-10.0" upper="10.0" />
        <axis xyz="1 0 0" />
    </joint>
	<joint name="jLeftAnkle_roty" type="revolute">
        <origin xyz="0 0 0" rpy="0 0 0"/>
        <parent link="LeftFoot_f1"/>
        <child link="LeftFoot_f2"/>
        <dynamics damping="0.1" friction="0.0"/>
        <limit effort="30" velocity="1.0" lower="-10.0" upper="10.0" />
        <axis xyz="0 1 0" />
    </joint>
    <joint name="jLeftAnkle_rotz" type="revolute">
        <origin xyz="0 0 0" rpy="0 0 0"/>
        <parent link="LeftFoot_f2"/>
        <child link="LeftFoot"/>
        <dynamics damping="0.1" friction="0.0"/>
        <limit effort="30" velocity="1.0" lower="-10.0" upper="10.0" />
        <axis xyz="0 0 1" />
    </joint>


</robot>
